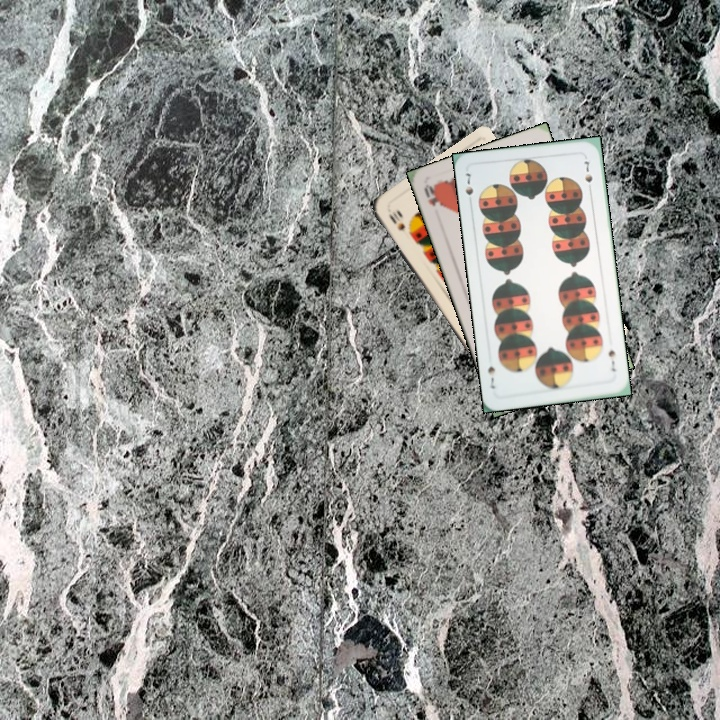HO: (420, 180, 443, 209)
S10: (384, 207, 407, 234)
S7: (461, 168, 476, 198), (604, 346, 619, 374)
